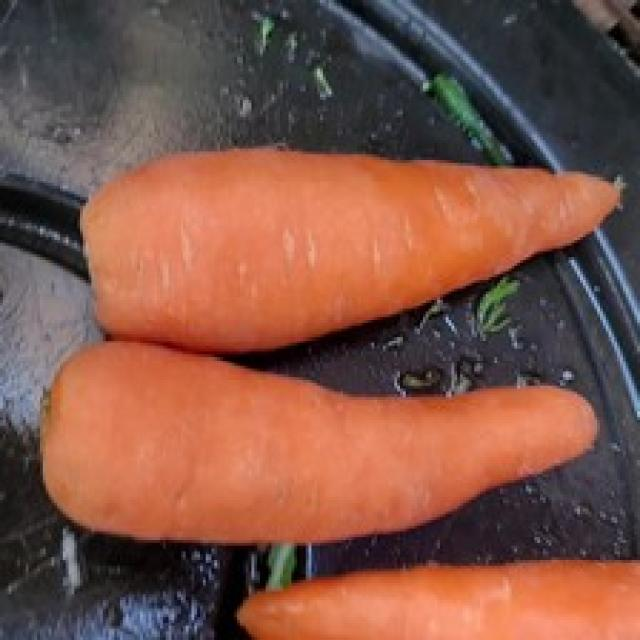Fresh_Carrot: (36, 343, 600, 545), (98, 152, 624, 349), (225, 561, 640, 640)
